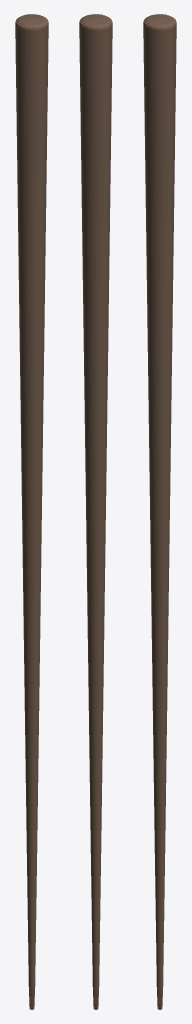
File: directer.glb
The picture shows the model from 3 angles, left to right: view 1: azimuth 30°, elevation 25°; view 2: azimuth 150°, elevation 25°; view 3: azimuth 330°, elevation 25°; orthographic projection.
Visible parts, largest first — view 1: directer; view 2: directer; view 3: directer.
Part boxes in pixels (<box>): directer: <box>15,14,48,1009</box>; directer: <box>79,14,112,1009</box>; directer: <box>143,14,176,1009</box>.
Size of the model in its own units: 0.0289 by 0.9422 by 0.0285.
